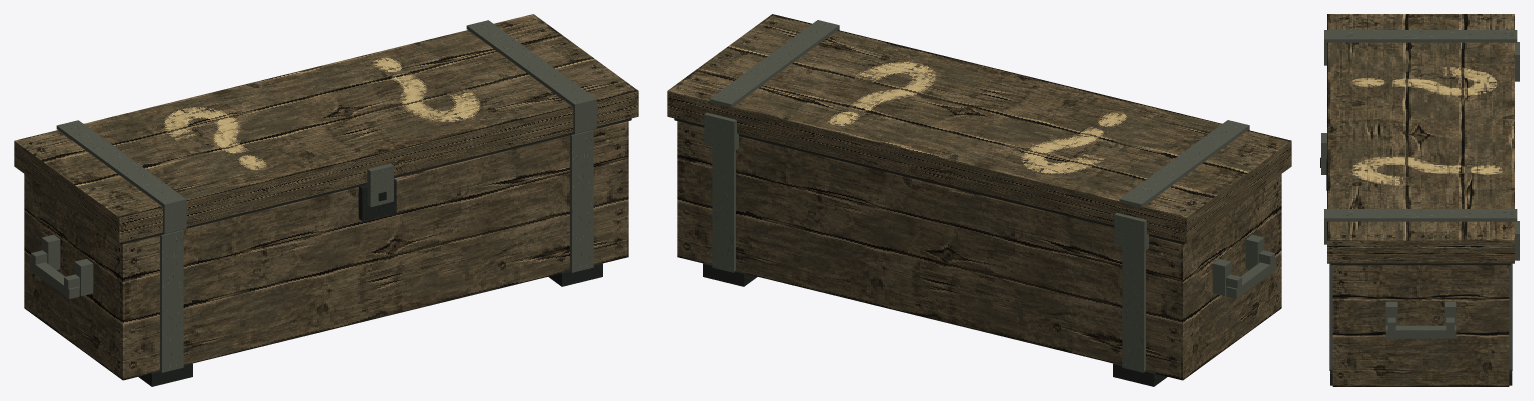
The model's file is mysterybox_hl1.glb.
3 views of the same model, side by side, from view 1: azimuth 30°, elevation 25°; view 2: azimuth 150°, elevation 25°; view 3: azimuth 270°, elevation 25° (orthographic). The views are drawn at different scales.
Visible parts, largest first — view 1: MysteryBox_HL1; view 2: MysteryBox_HL1; view 3: MysteryBox_HL1.
Part boxes in pixels (bbox=[...]): MysteryBox_HL1: bbox=[14, 14, 638, 386]; MysteryBox_HL1: bbox=[667, 14, 1291, 386]; MysteryBox_HL1: bbox=[1320, 14, 1519, 386].
Size of the model in its own units: 2.47 by 0.7772 by 0.8623.
Materials: 4 (4 with a texture image).
